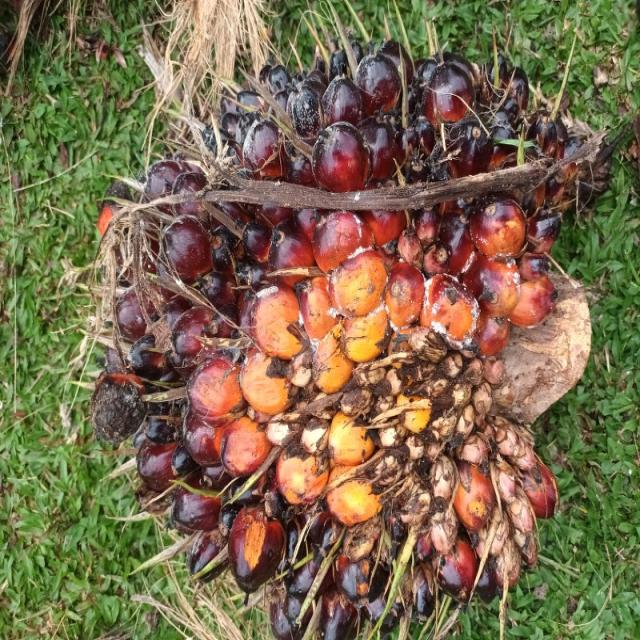fraksi 1: (0, 55, 459, 640)
